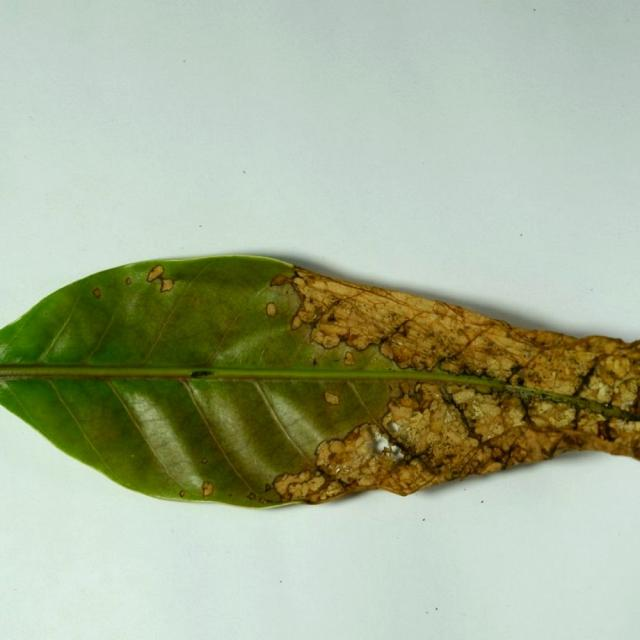Anthracnose: (273, 288, 373, 414), (390, 390, 475, 464), (312, 420, 397, 488), (442, 326, 533, 378), (579, 346, 638, 409), (515, 344, 589, 393), (101, 263, 176, 306), (266, 274, 306, 334), (457, 391, 505, 432), (177, 472, 243, 501), (358, 426, 405, 466), (383, 399, 423, 439), (386, 334, 432, 368), (501, 430, 546, 463), (610, 376, 640, 410), (583, 372, 615, 401), (602, 354, 631, 378), (485, 356, 515, 378), (321, 384, 345, 407), (348, 331, 377, 350), (452, 389, 480, 405), (440, 358, 464, 374), (508, 445, 529, 463), (146, 264, 164, 283), (321, 314, 343, 329), (269, 274, 292, 288), (320, 333, 340, 349), (432, 302, 453, 316), (158, 275, 174, 293), (261, 487, 281, 501), (604, 421, 618, 441), (397, 395, 417, 409), (380, 342, 395, 360), (200, 480, 214, 497), (272, 473, 287, 488), (264, 301, 278, 317), (343, 351, 356, 366), (396, 325, 410, 338), (287, 483, 301, 496), (491, 446, 504, 459), (292, 276, 306, 288), (291, 315, 302, 330), (399, 381, 410, 394), (91, 287, 102, 299), (326, 313, 337, 323), (257, 496, 268, 504), (264, 483, 272, 492), (247, 492, 256, 500), (178, 490, 187, 497), (125, 277, 132, 285), (388, 385, 394, 393), (312, 358, 318, 365), (201, 458, 208, 464), (283, 289, 289, 296), (228, 491, 234, 497), (43, 311, 49, 316)
Mango: (0, 255, 639, 511)
